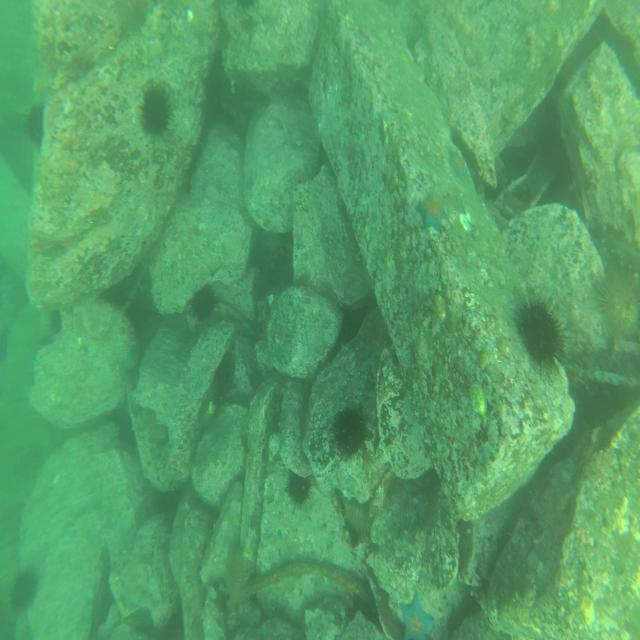echinus: (518, 300, 563, 367), (598, 276, 640, 345), (334, 409, 366, 456), (140, 82, 170, 132), (10, 570, 40, 612), (190, 284, 218, 322), (25, 101, 46, 147), (287, 472, 312, 508)
starfish: (399, 596, 436, 640), (418, 191, 445, 234), (447, 142, 468, 180)
